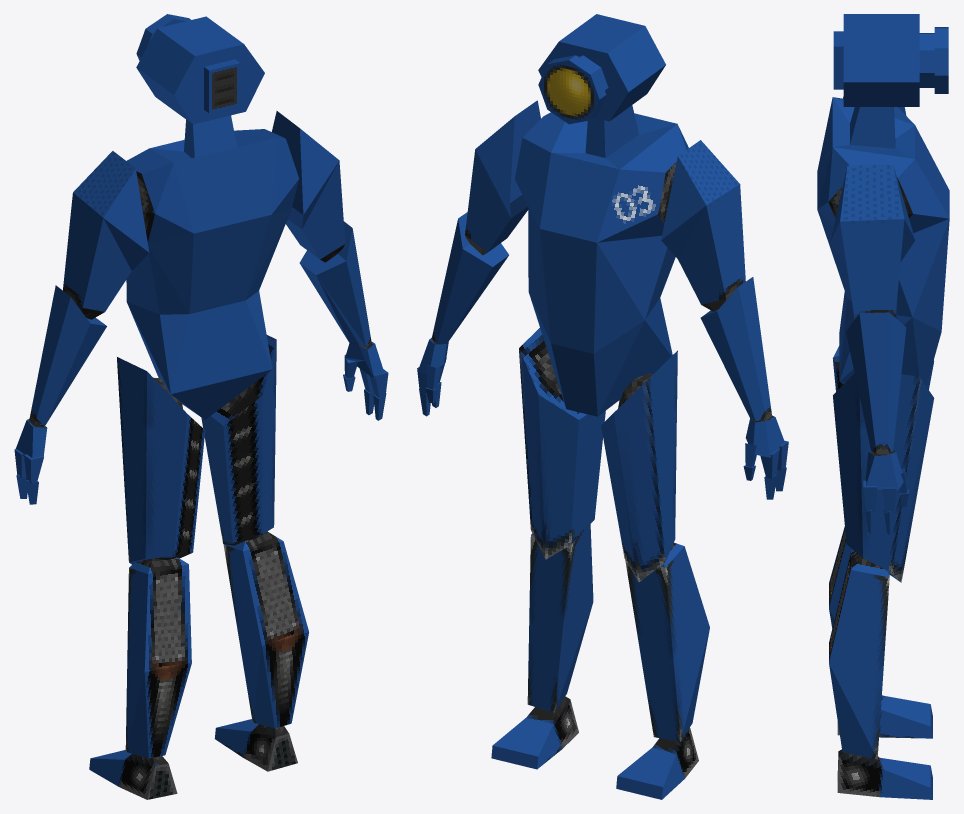
The picture shows the model from 3 angles, left to right: view 1: azimuth 30°, elevation 25°; view 2: azimuth 150°, elevation 25°; view 3: azimuth 270°, elevation 25°; orthographic projection.
Visible parts, largest first — view 1: body, left_thigh, left_shin, right_shin, head, left_upper_arm, right_thigh, right_upper_arm, left_forearm, right_forearm, left_foot, right_foot (+2 smaller); view 2: body, left_thigh, right_thigh, left_shin, left_upper_arm, head, right_shin, right_upper_arm, left_forearm, right_forearm, right_foot, left_foot (+1 smaller); view 3: body, right_thigh, head, right_shin, right_upper_arm, right_forearm, right_foot, left_foot, right_hand, left_shin, left_thigh, right_pinky_1 (+1 smaller).
Boxes of the visible parts, x1=… form: body: x1=126, y1=115, x2=299, y2=419; left_thigh: x1=117, y1=357, x2=205, y2=564; left_shin: x1=125, y1=557, x2=191, y2=758; right_shin: x1=223, y1=531, x2=308, y2=728; head: x1=136, y1=14, x2=264, y2=124; left_upper_arm: x1=63, y1=151, x2=149, y2=319; right_thigh: x1=201, y1=335, x2=276, y2=545; right_upper_arm: x1=272, y1=111, x2=345, y2=262; left_forearm: x1=29, y1=285, x2=106, y2=425; right_forearm: x1=299, y1=221, x2=371, y2=347; left_foot: x1=89, y1=750, x2=177, y2=799; right_foot: x1=214, y1=719, x2=297, y2=771; body: x1=515, y1=105, x2=688, y2=416; left_thigh: x1=601, y1=350, x2=677, y2=581; right_thigh: x1=519, y1=328, x2=605, y2=559; left_shin: x1=625, y1=542, x2=709, y2=741; left_upper_arm: x1=661, y1=140, x2=745, y2=311; head: x1=538, y1=14, x2=665, y2=124; right_shin: x1=527, y1=524, x2=593, y2=712; right_upper_arm: x1=465, y1=100, x2=540, y2=255; left_forearm: x1=700, y1=277, x2=771, y2=421; right_forearm: x1=431, y1=212, x2=508, y2=343; right_foot: x1=491, y1=696, x2=578, y2=769; left_foot: x1=616, y1=728, x2=698, y2=799; body: x1=817, y1=97, x2=949, y2=385; right_thigh: x1=833, y1=373, x2=934, y2=582; head: x1=833, y1=14, x2=948, y2=106; right_shin: x1=829, y1=549, x2=889, y2=759; right_upper_arm: x1=830, y1=165, x2=915, y2=319; right_forearm: x1=846, y1=312, x2=906, y2=455; right_foot: x1=837, y1=749, x2=932, y2=799; left_foot: x1=837, y1=695, x2=932, y2=738; right_hand: x1=865, y1=450, x2=903, y2=490; left_shin: x1=829, y1=526, x2=852, y2=627; left_thigh: x1=832, y1=346, x2=934, y2=391; right_pinky_1: x1=863, y1=480, x2=877, y2=511.
Bounding box in the file's own units: 1 × 1.95 × 0.3189.
Materials: 1 (1 with a texture image).
